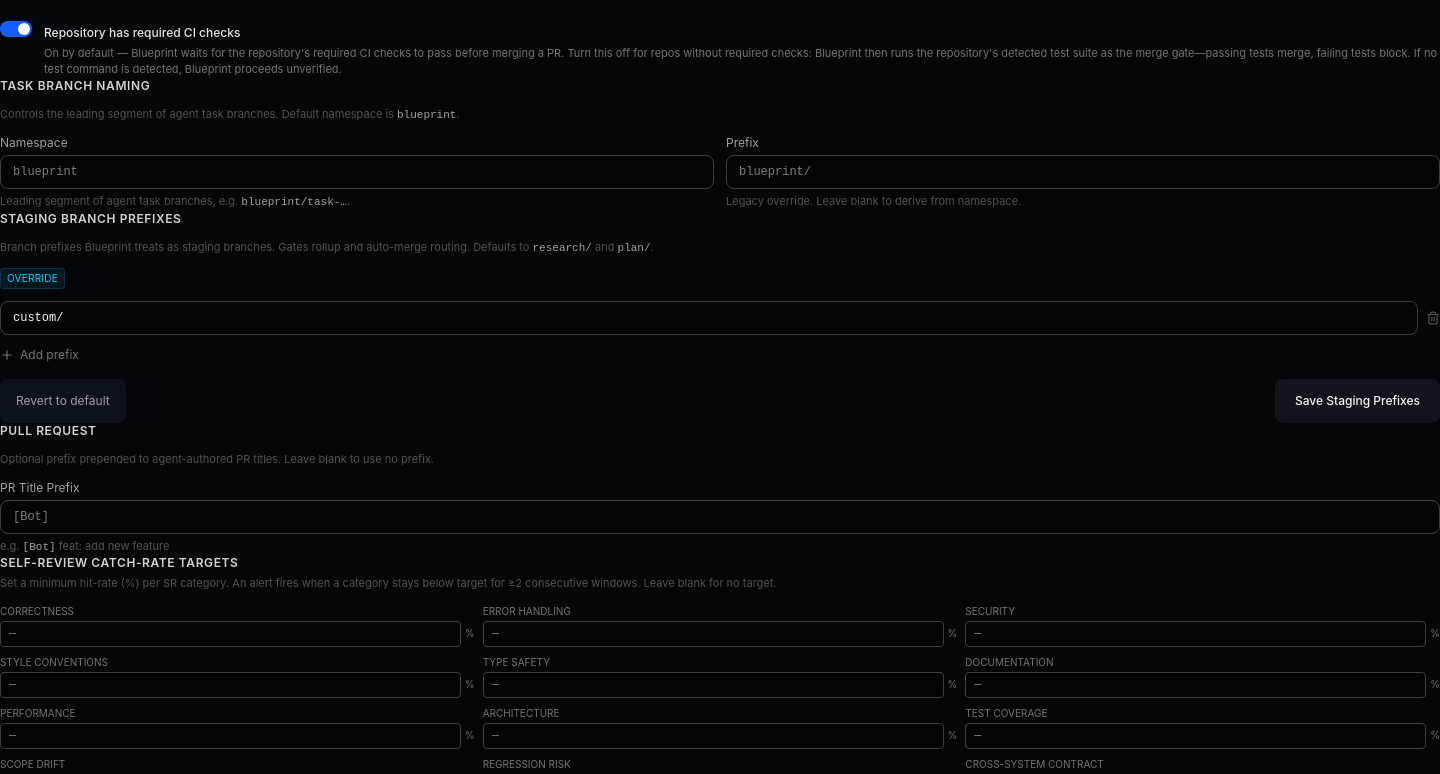
ProjectBuildConfigSection — staging prefix error handling › surfaces error and does not corrupt state when revert PATCH returns non-ok
(page scrolled)
Click the button "Revert to default".
click(63, 401)  # box [0,379,126,423]
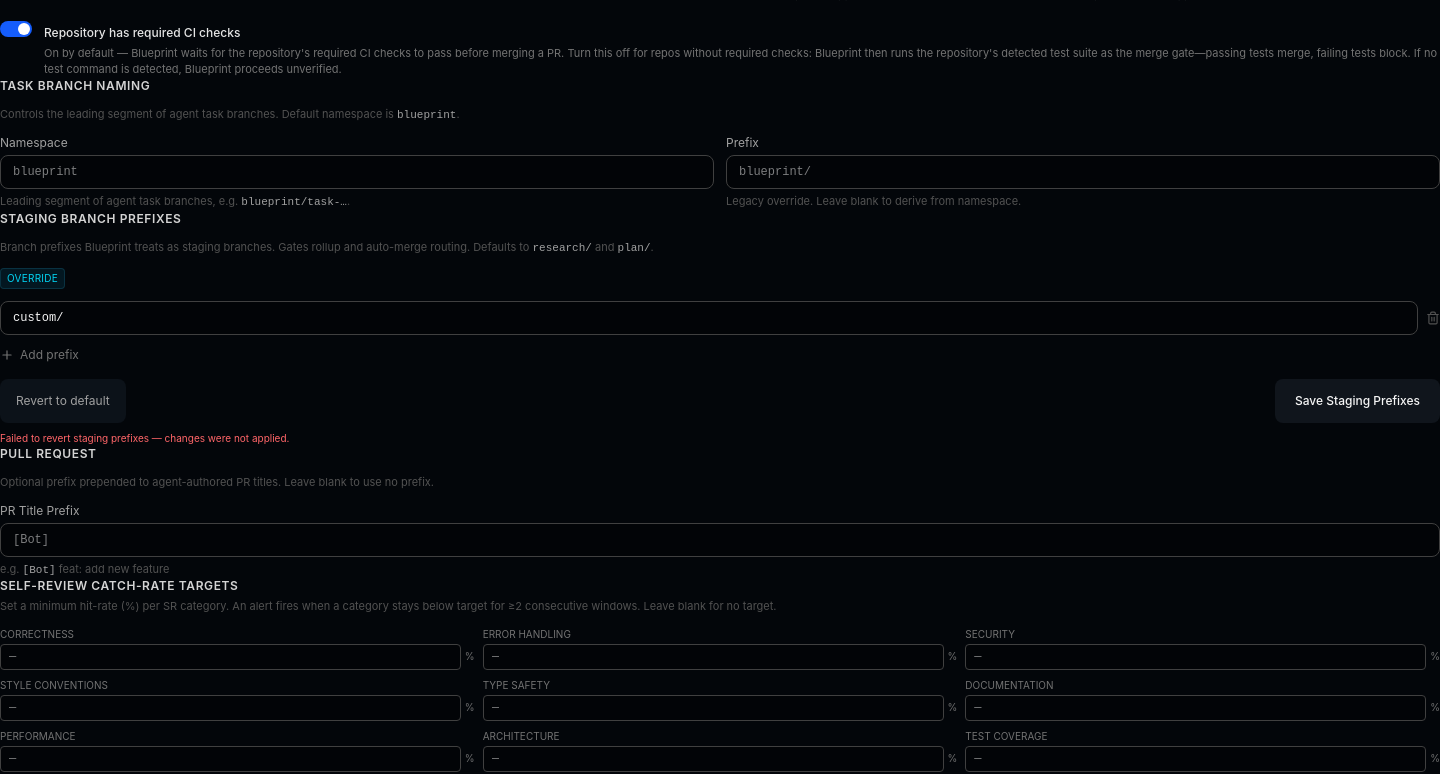
Expected: the text with test id "staging-prefixes-error" shows "Failed to revert", [0,432,289,444]
